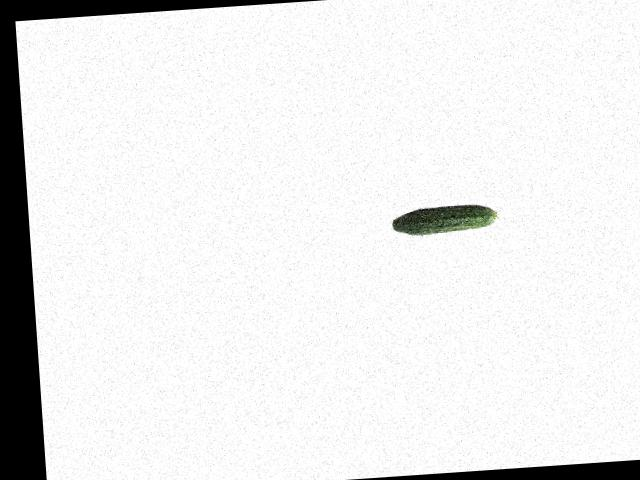cucumber: (390, 203, 498, 236)
